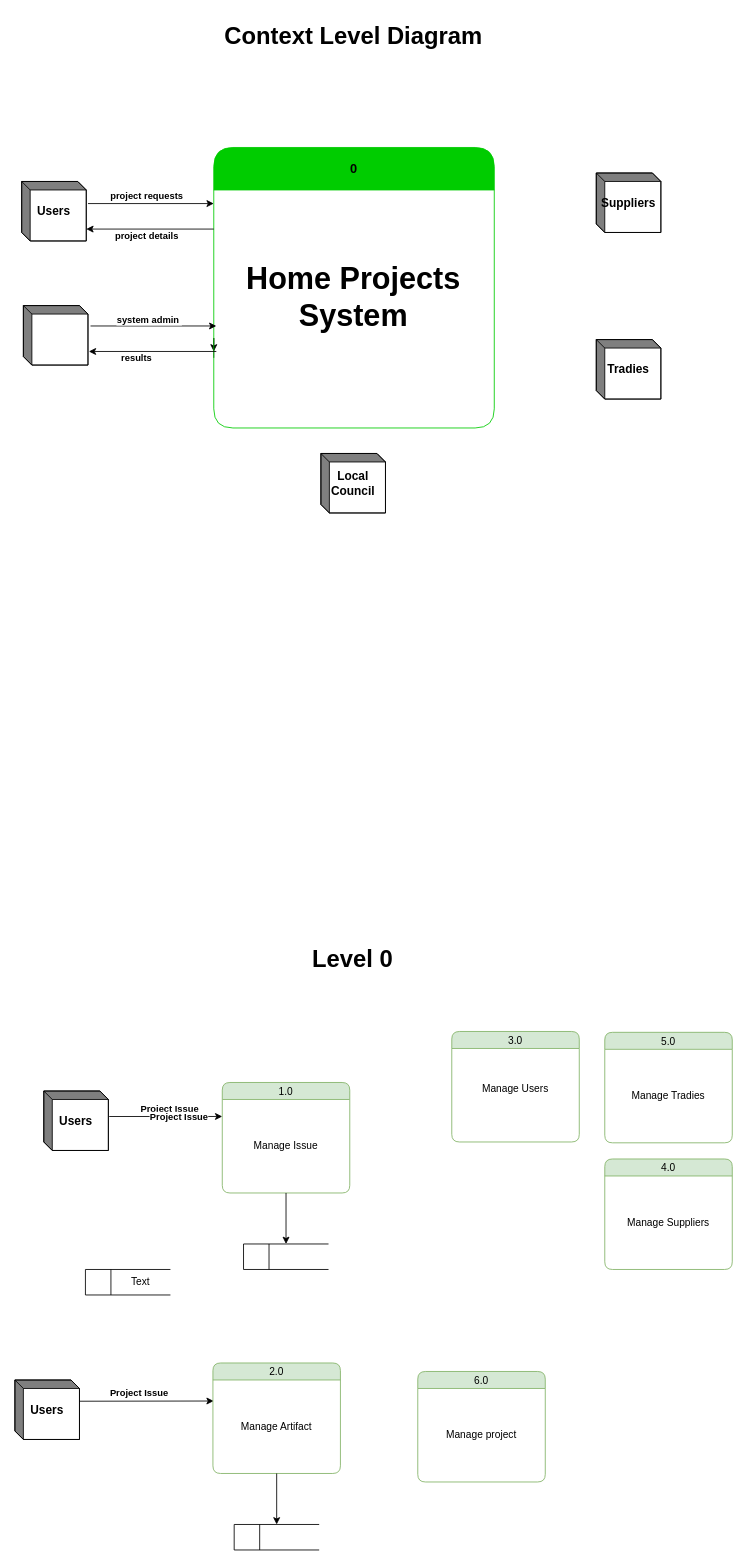
Image size: 747x1565. Some labels were removed from this diagram. Each missing label, with the box of its shape:
Administrators: (23, 305, 88, 365)
Artifact DB: (233, 1524, 319, 1550)
D01: (85, 1269, 170, 1295)
Issue DB: (243, 1243, 329, 1269)
